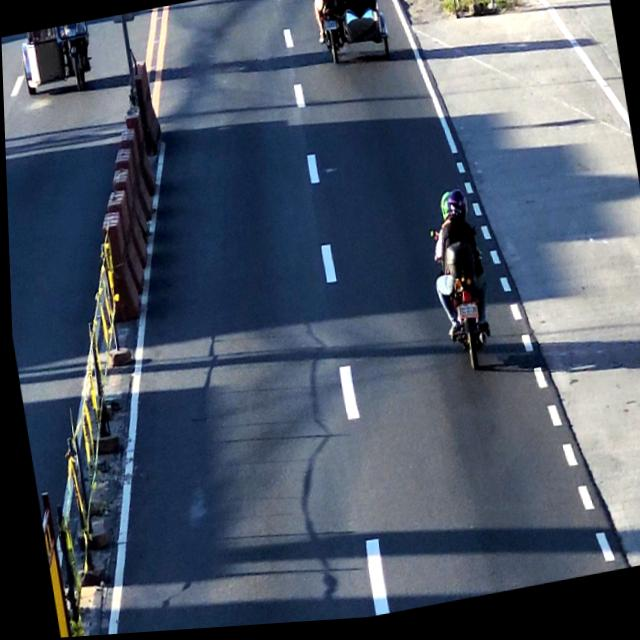License-Plate: (452, 306, 476, 326), (324, 23, 338, 36)
Motorcycle: (415, 196, 500, 394)
Tricycle: (311, 0, 389, 73)
